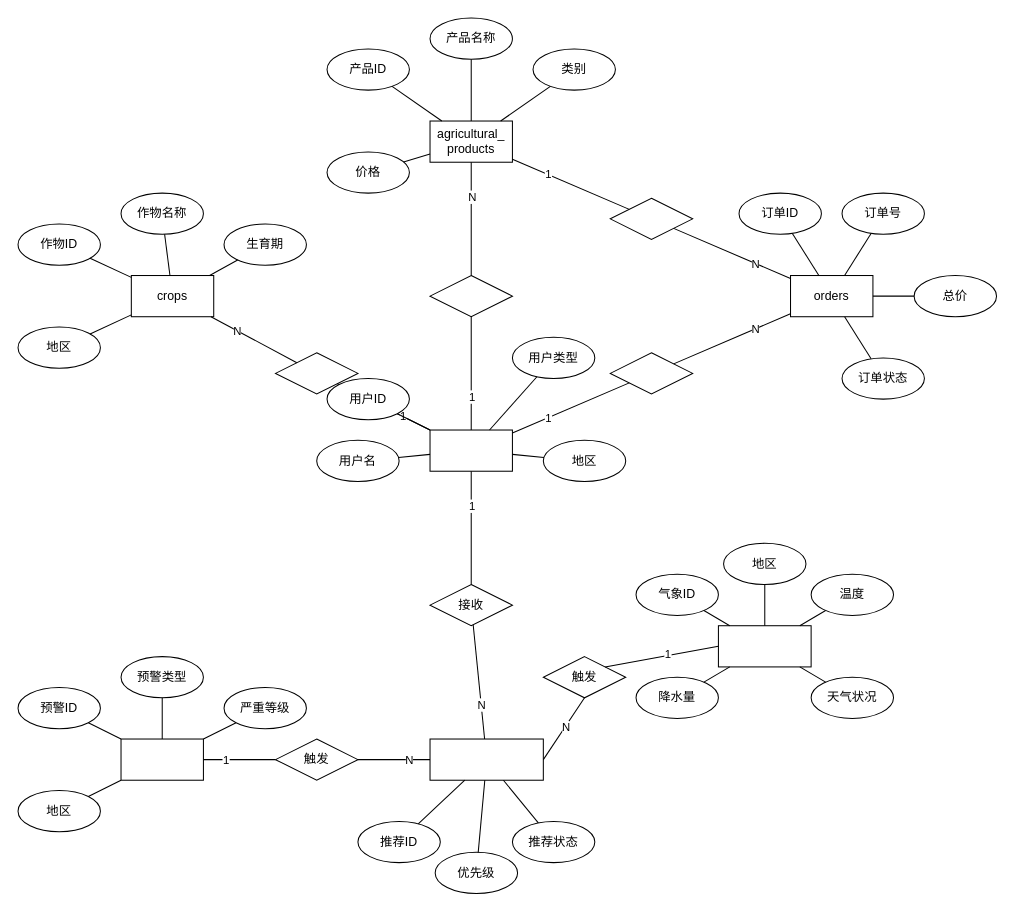
Some shapes in this 1015 by 912 pixel diagram are drawn without their labels. Each missing label, with the centre of its shape:
recommendations: the point at 486,759
users: the point at 470,450
warnings: the point at 161,759
weather_data: the point at 764,646
下单: the point at 651,373
供应: the point at 470,295
包含: the point at 651,218
种植: the point at 316,373
